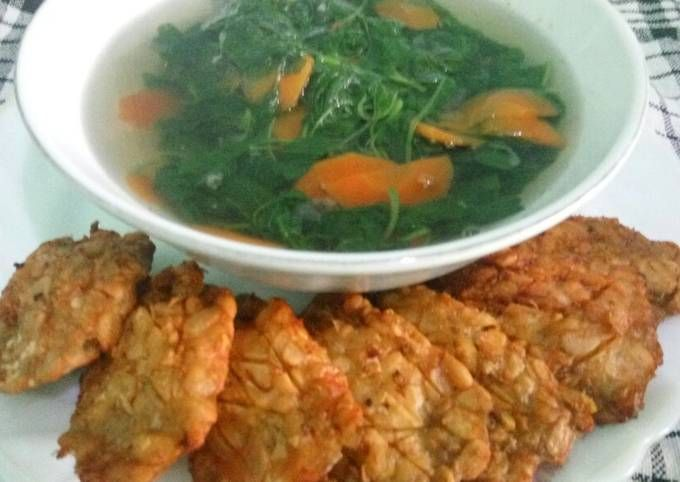Sayur Bayam: (78, 4, 619, 217)
